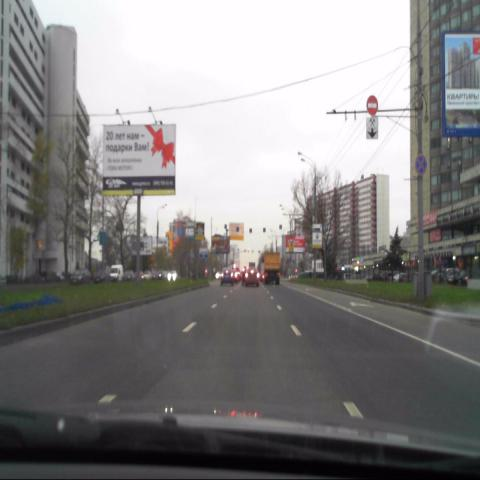3_1: (366, 96, 378, 116)
3_27: (414, 154, 427, 177)
